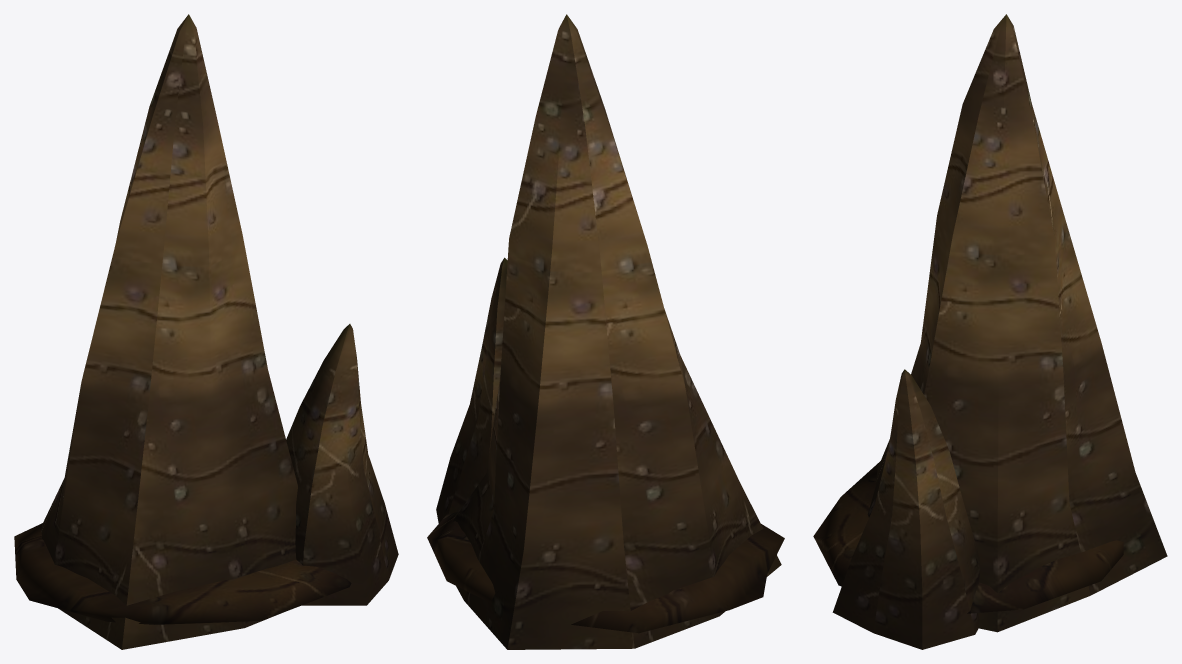
Rendered from cave_stalagmite_mud.glb.
3 renders of one model, left to right at view 1: azimuth 30°, elevation 25°; view 2: azimuth 150°, elevation 25°; view 3: azimuth 270°, elevation 25°, orthographic. The views are drawn at different scales.
Visible parts, largest first — view 1: cave_stalagmite_mud; view 2: cave_stalagmite_mud; view 3: cave_stalagmite_mud.
Boxes of the visible parts, left/top/right/bottom form: cave_stalagmite_mud: left=14, top=14, right=398, bottom=649; cave_stalagmite_mud: left=427, top=14, right=784, bottom=649; cave_stalagmite_mud: left=813, top=14, right=1167, bottom=649.
Bounding box in the file's own units: 0.899 × 1.38 × 0.8004.
2 materials, 2 textured.
